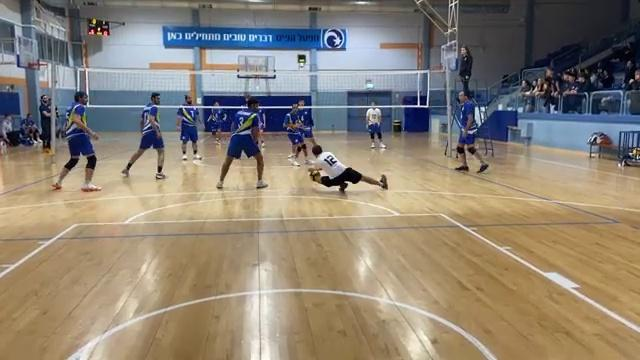ball: (306, 165, 323, 183)
